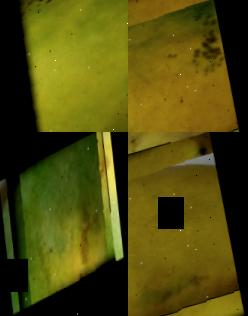PartiallyRipe: (1, 132, 119, 312), (0, 0, 128, 132)
Ripe: (128, 132, 248, 316), (128, 0, 248, 132)
